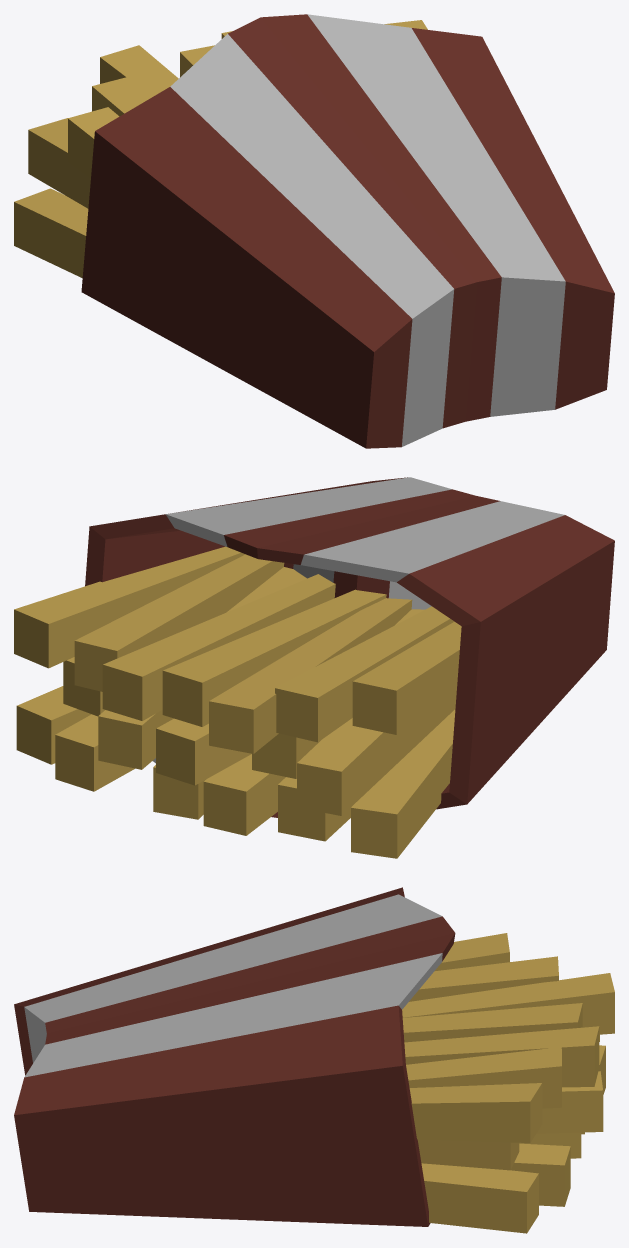
File: fries.glb
3 renders of one model, top to bottom at view 1: azimuth 30°, elevation 25°; view 2: azimuth 150°, elevation 25°; view 3: azimuth 270°, elevation 25°, orthographic. The views are drawn at different scales.
Parts seen in each view (by area): view 1: Fries; view 2: Fries; view 3: Fries.
Part boxes in pixels (x1,y1,x2,y2): Fries: (14,14,614,448); Fries: (14,477,614,858); Fries: (14,887,614,1233).
Bounding box in the file's own units: 0.9488 × 0.5857 × 1.33.
